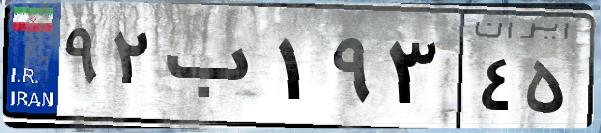1: (270, 28, 330, 110)
2: (110, 28, 158, 98)
3: (385, 28, 445, 110)
4: (475, 38, 525, 113)
5: (525, 38, 570, 115)
9: (330, 28, 385, 110), (57, 26, 110, 100)
ب: (158, 20, 270, 120)
